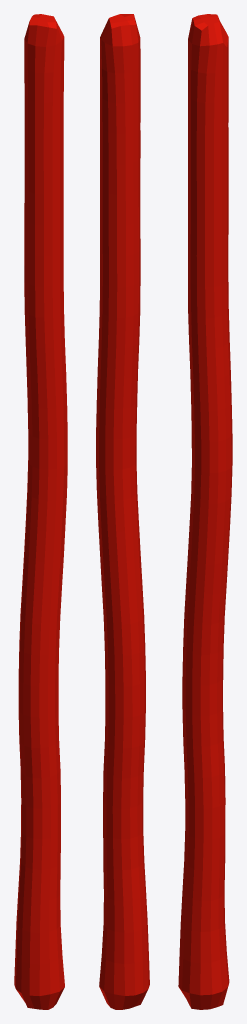
File: ThinTrunk.glb
3 views of the same model, side by side, from view 1: azimuth 30°, elevation 25°; view 2: azimuth 150°, elevation 25°; view 3: azimuth 330°, elevation 25° (orthographic).
Visible parts, largest first — view 1: Retopo_TRONC FIN; view 2: Retopo_TRONC FIN; view 3: Retopo_TRONC FIN.
Boxes of the visible parts, left/top/right/bottom form: Retopo_TRONC FIN: left=14, top=14, right=67, bottom=1009; Retopo_TRONC FIN: left=96, top=14, right=149, bottom=1009; Retopo_TRONC FIN: left=178, top=14, right=232, bottom=1009.
Bounding box in the file's own units: 1.46 × 29.34 × 1.36.
